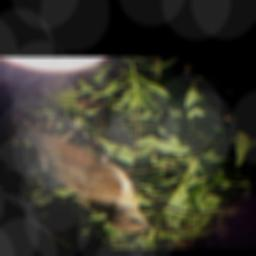Cuckoo: (5, 105, 162, 234)
